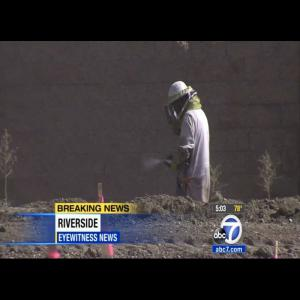white: (169, 82, 191, 115)
